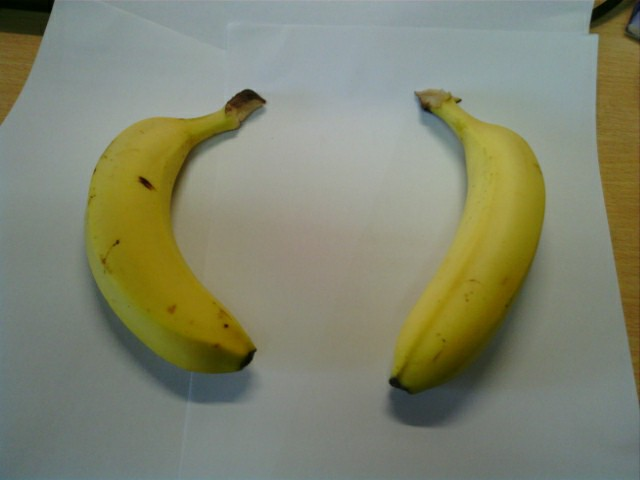fresh_banana: (387, 86, 547, 397)
normal_banana: (83, 88, 260, 373)
